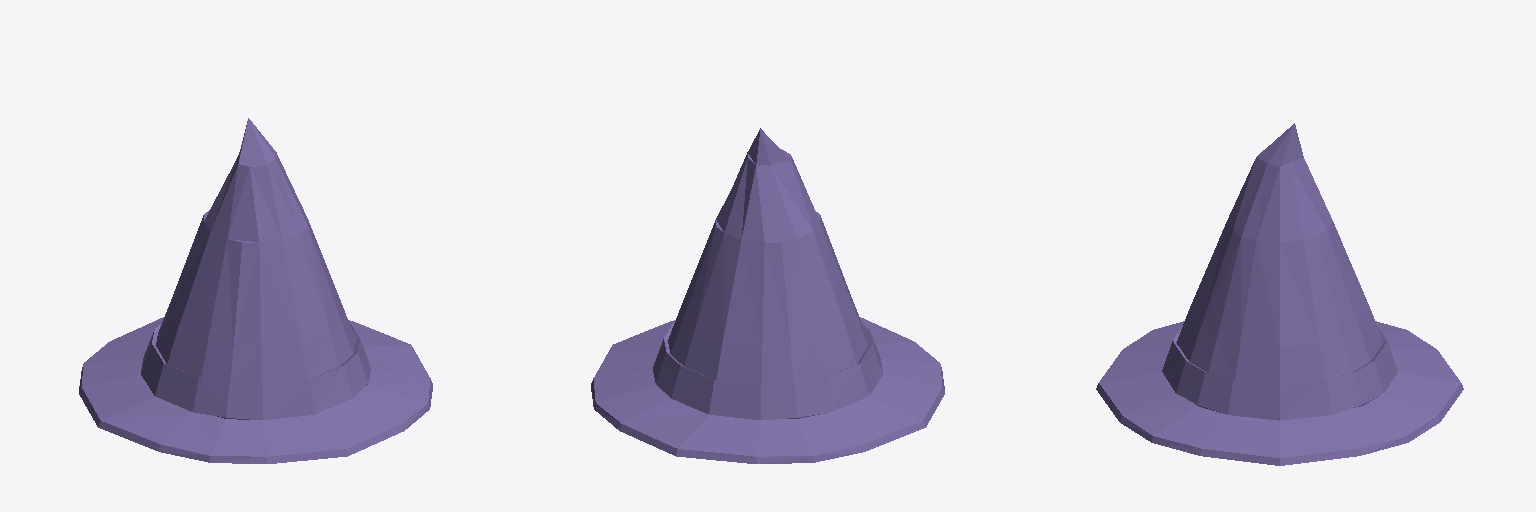
The model's file is wizard_hat.obj.
3 views of the same model, side by side, from view 1: azimuth 30°, elevation 25°; view 2: azimuth 150°, elevation 25°; view 3: azimuth 270°, elevation 25° (orthographic).
Visible parts, largest first — view 1: wizard_hat:pCube2; view 2: wizard_hat:pCube2; view 3: wizard_hat:pCube2.
Boxes of the visible parts, box(x1,y1,x2,y2) form: wizard_hat:pCube2: box(79, 118, 432, 463); wizard_hat:pCube2: box(591, 128, 944, 463); wizard_hat:pCube2: box(1096, 123, 1463, 465).
Size of the model in its own units: 3.09 by 2.49 by 3.12.